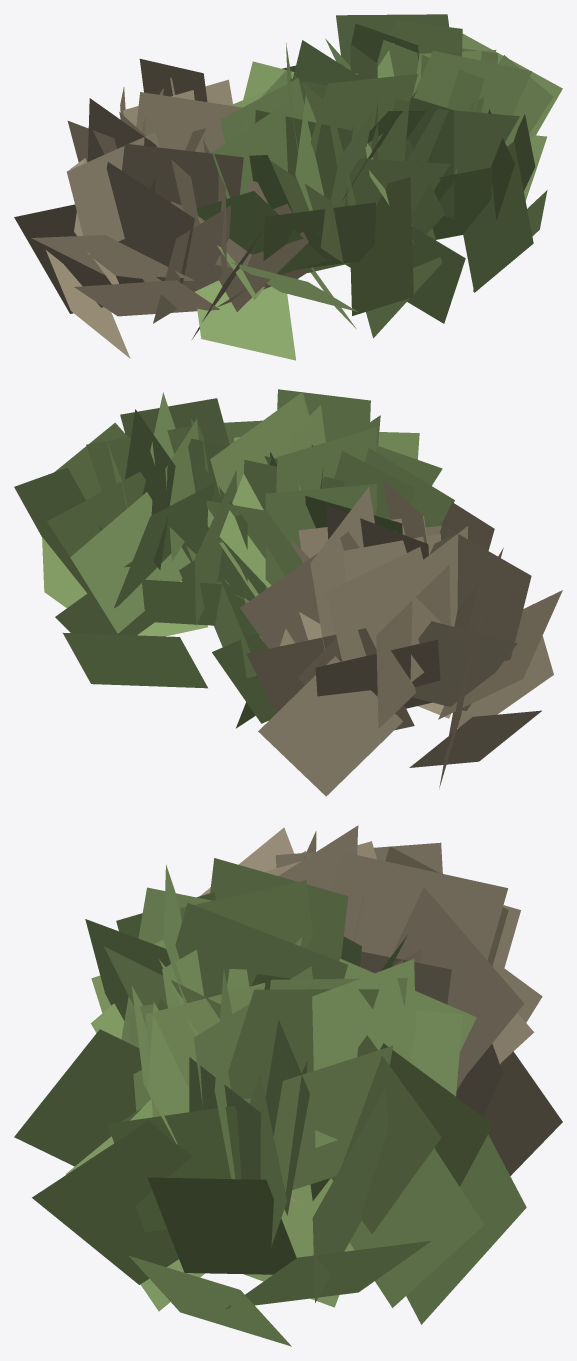
File: Cover_Bush_Clump.fbx
The picture shows the model from 3 angles, top to bottom: view 1: azimuth 30°, elevation 25°; view 2: azimuth 150°, elevation 25°; view 3: azimuth 270°, elevation 25°; orthographic projection. The views are drawn at different scales.
Parts seen in each view (by area): view 1: Cover_Bush_Clump; view 2: Cover_Bush_Clump; view 3: Cover_Bush_Clump.
Part boxes in pixels (x1,y1,x2,y2): Cover_Bush_Clump: (14, 14, 562, 360); Cover_Bush_Clump: (14, 389, 562, 796); Cover_Bush_Clump: (14, 825, 562, 1346).
Bounding box in the file's own units: 3.98 × 2.14 × 2.68.
